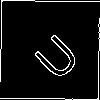U: (25, 25, 83, 83)
